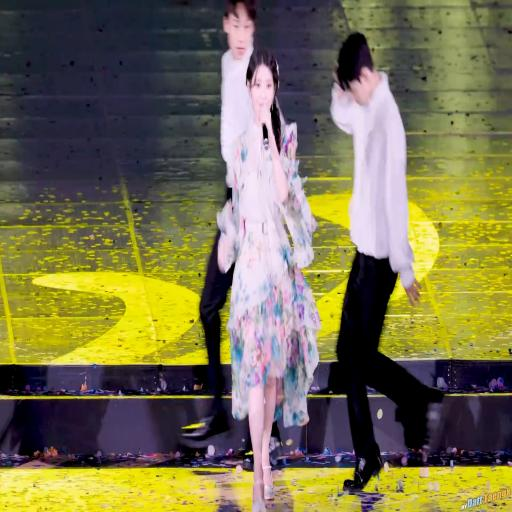IU: (246, 49, 280, 122)
